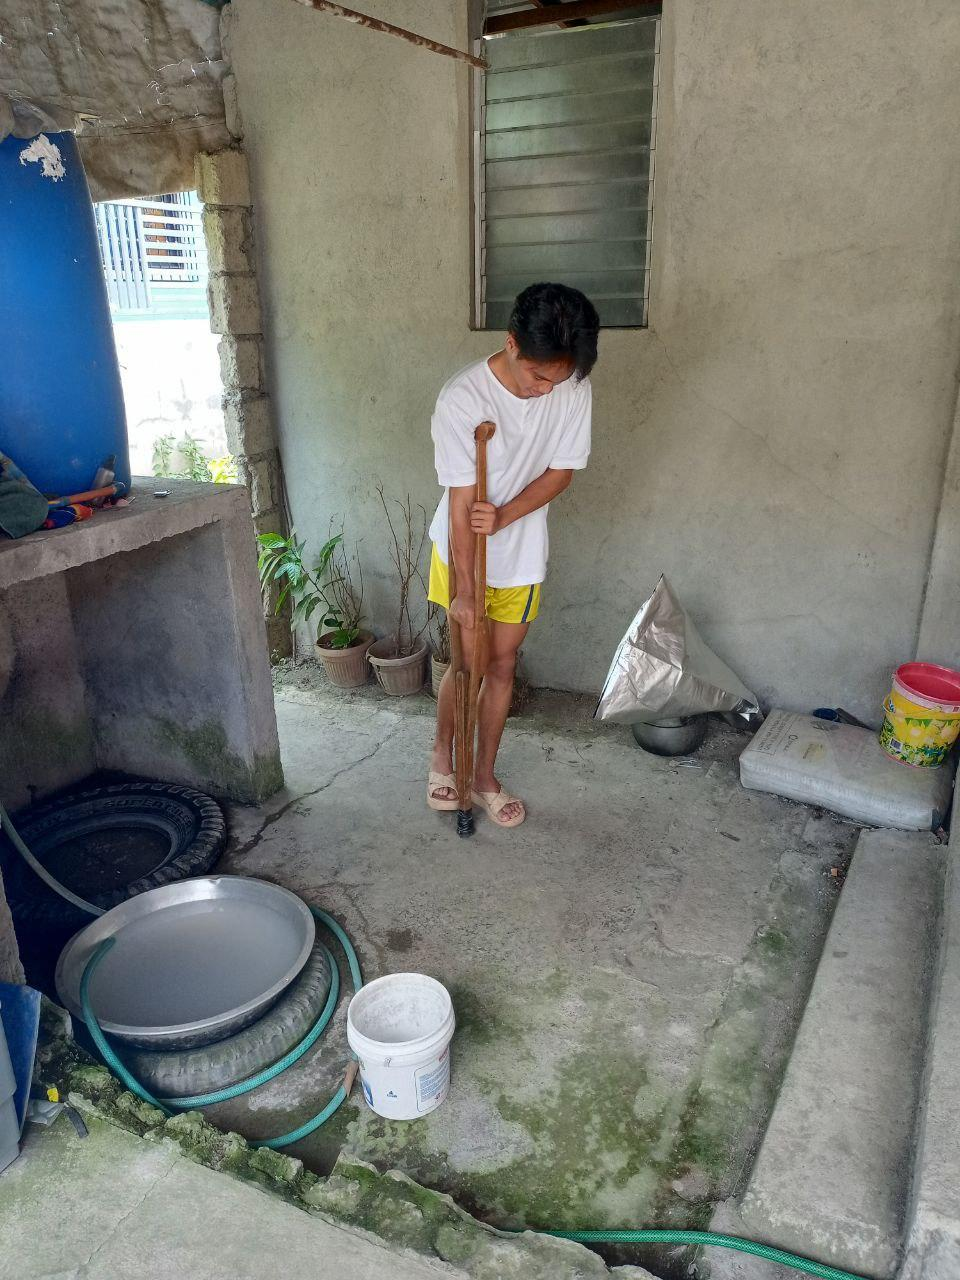crutches: (418, 268, 603, 843)
